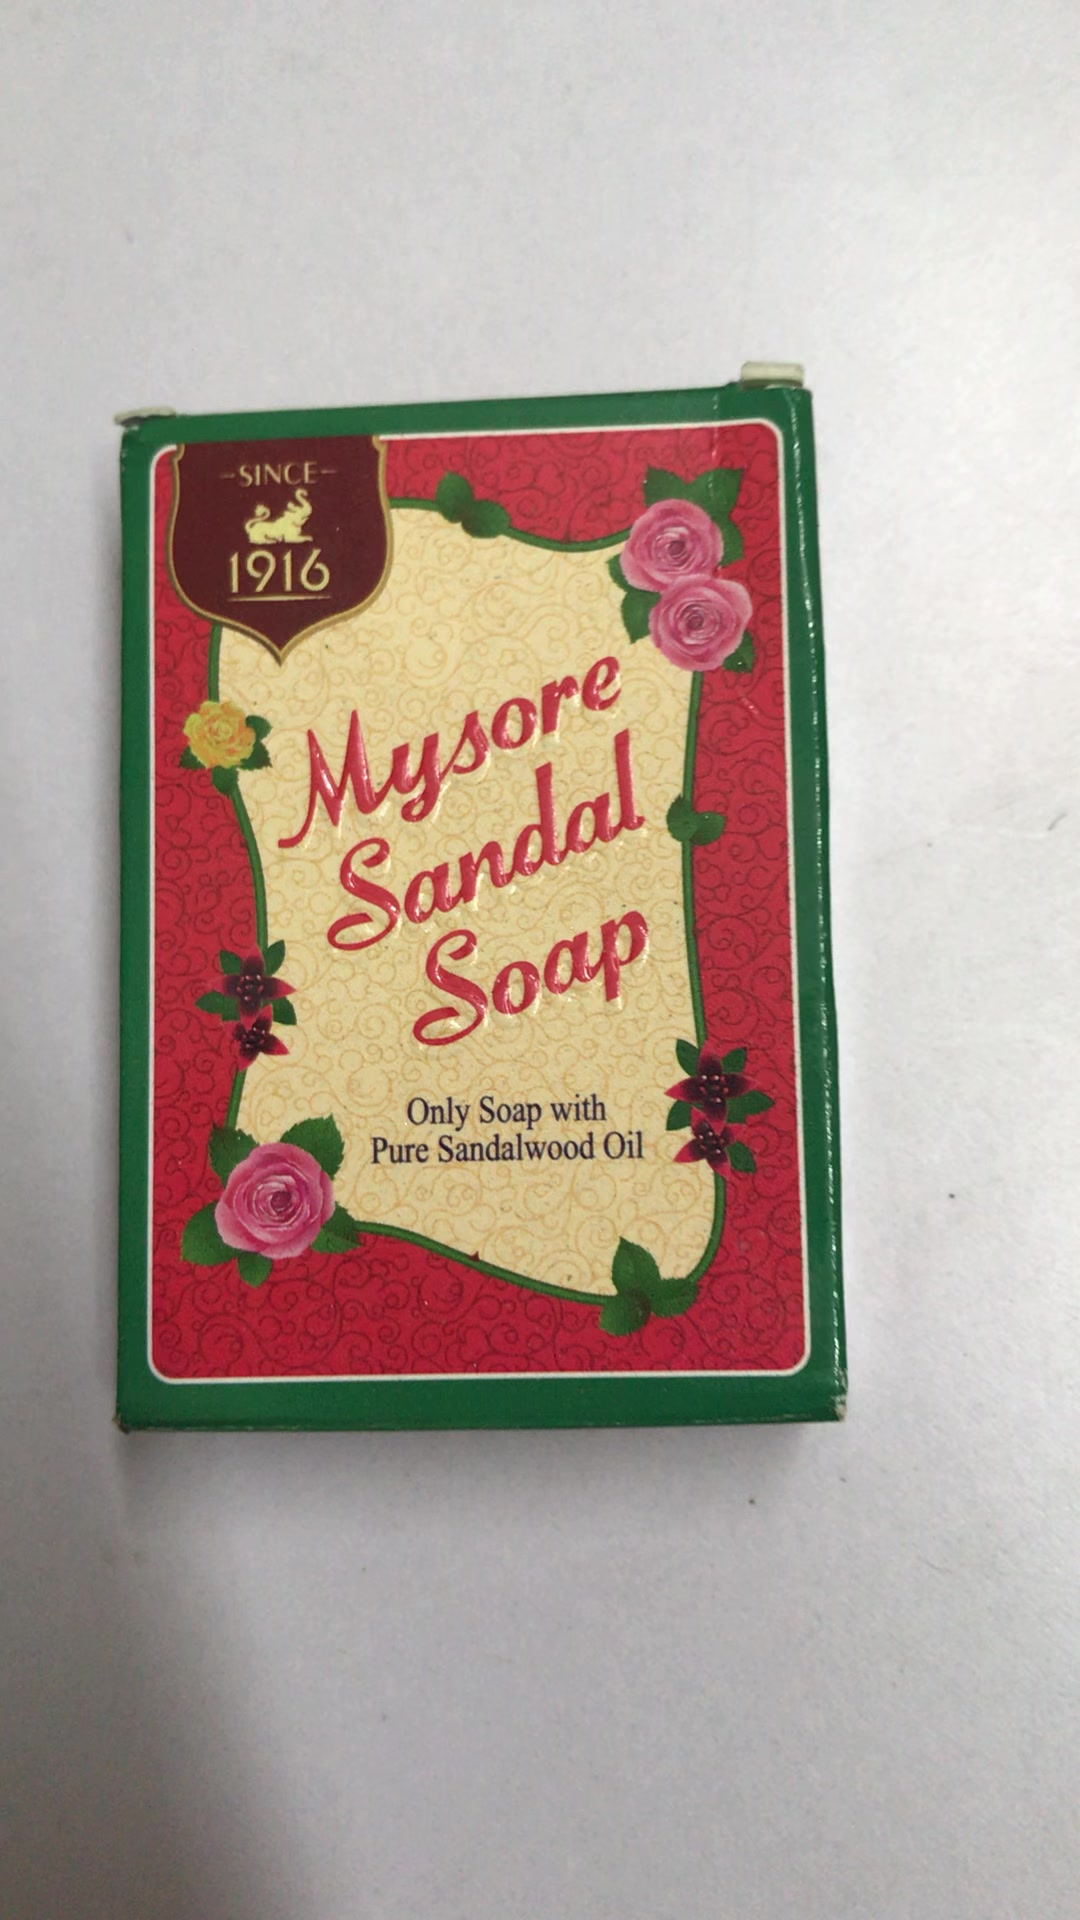mysore sandal soap: (123, 375, 840, 1427)
